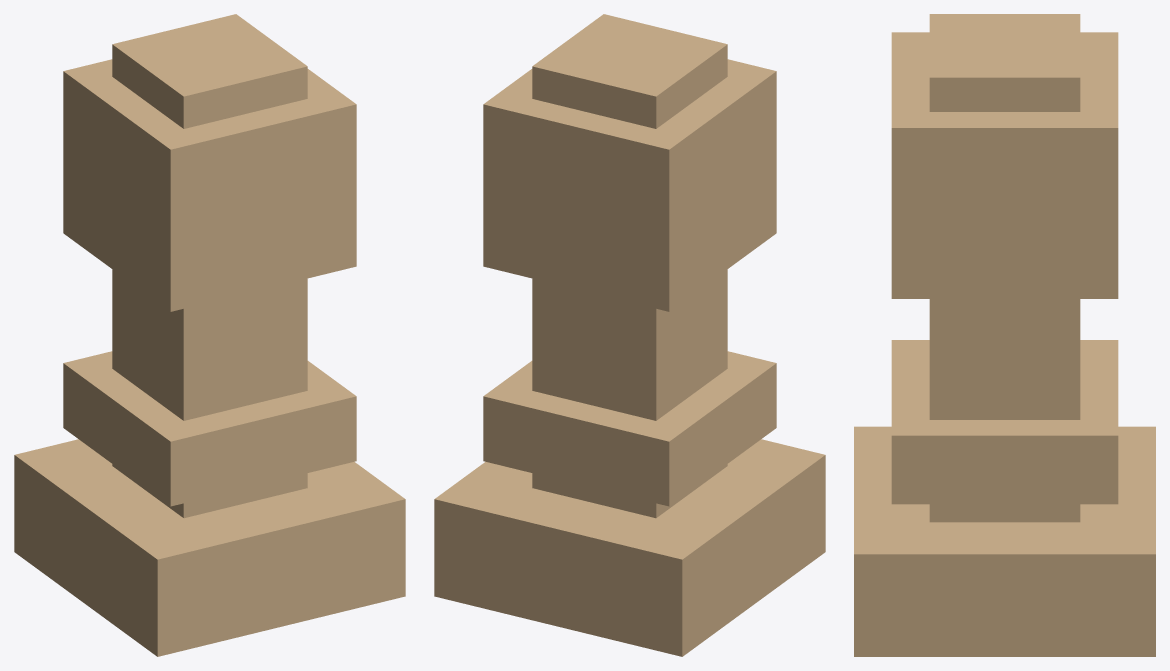
Rendered from token-v2-tan.gltf.
3 renders of one model, left to right at view 1: azimuth 30°, elevation 25°; view 2: azimuth 150°, elevation 25°; view 3: azimuth 270°, elevation 25°, orthographic. The views are drawn at different scales.
Visible parts, largest first — view 1: Untitled; view 2: Untitled; view 3: Untitled.
Boxes of the visible parts, x1,y1,x2,y2 form: Untitled: [14, 14, 405, 656]; Untitled: [434, 14, 825, 656]; Untitled: [854, 14, 1155, 656].
Bounding box in the file's own units: 0.8 × 1.6 × 0.8.
1 material, 1 textured.
